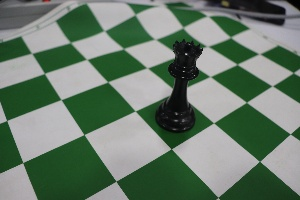black_queen: (157, 26, 202, 138)
